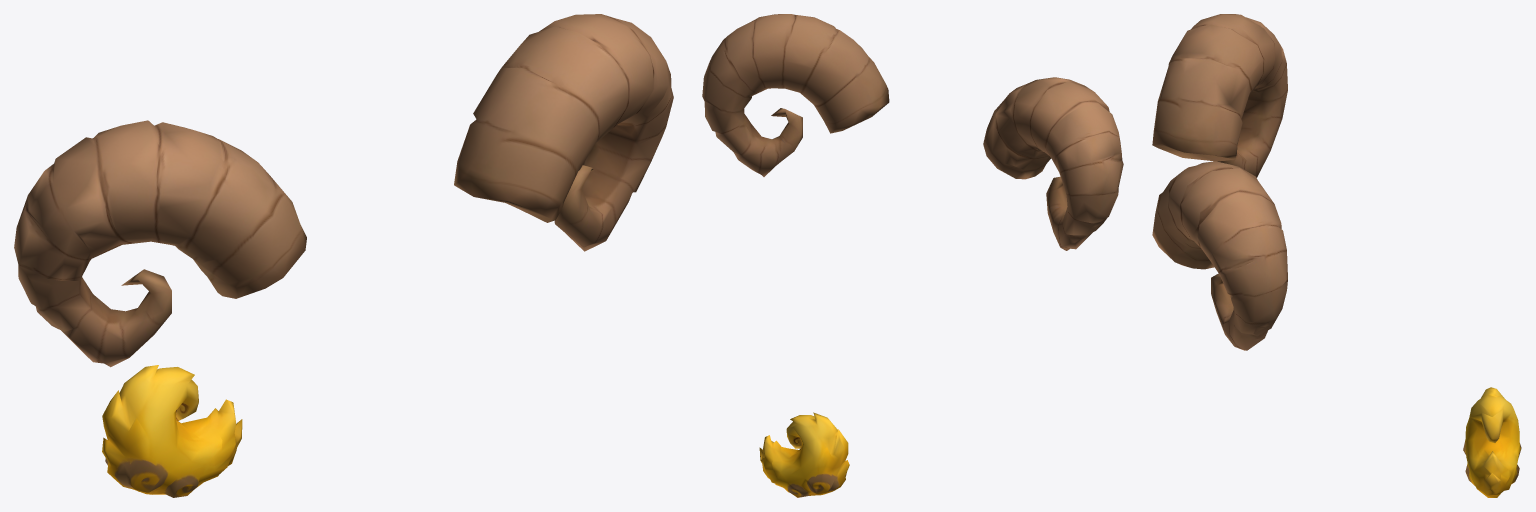
Rendered from ThunderRamWear.fbx.
3 views of the same model, side by side, from view 1: azimuth 30°, elevation 25°; view 2: azimuth 150°, elevation 25°; view 3: azimuth 270°, elevation 25° (orthographic). The views are drawn at different scales.
Parts seen in each view (by area): view 1: HornR, HornL, Tail; view 2: HornL, HornR, Tail; view 3: HornR, HornL, Tail.
Part boxes in pixels (<box>): HornR: <box>14,120,306,367</box>; HornL: <box>454,14,673,251</box>; Tail: <box>102,365,242,497</box>; HornL: <box>702,14,889,176</box>; HornR: <box>983,77,1123,250</box>; Tail: <box>759,412,849,497</box>; HornR: <box>1152,14,1287,177</box>; HornL: <box>1152,161,1287,350</box>; Tail: <box>1463,387,1521,497</box>.
Size of the model in its own units: 1.08 by 0.895 by 0.7566.
1 material, 1 textured.
